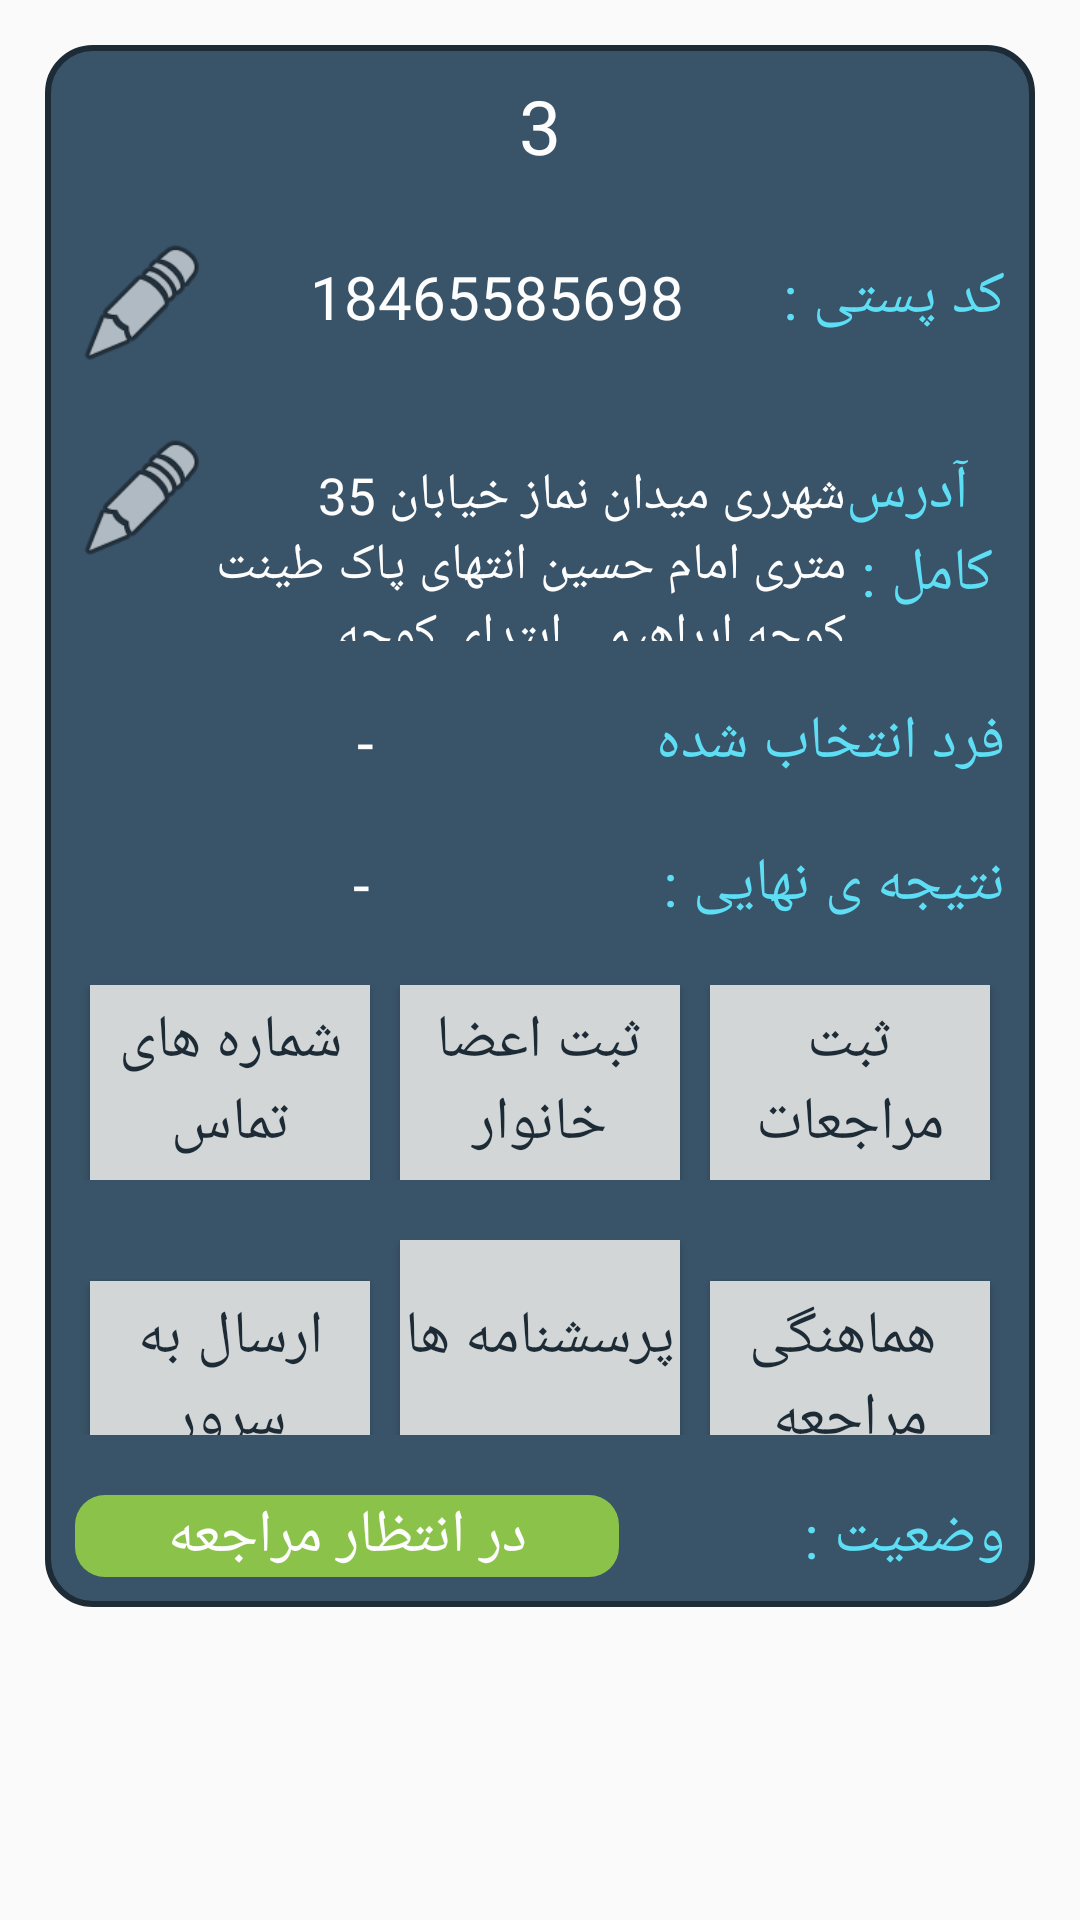

Where to tap for icons on this 1080 x 1920 app screen, as (x=x, y=y):
edit: (x=142, y=302), (x=142, y=497)
